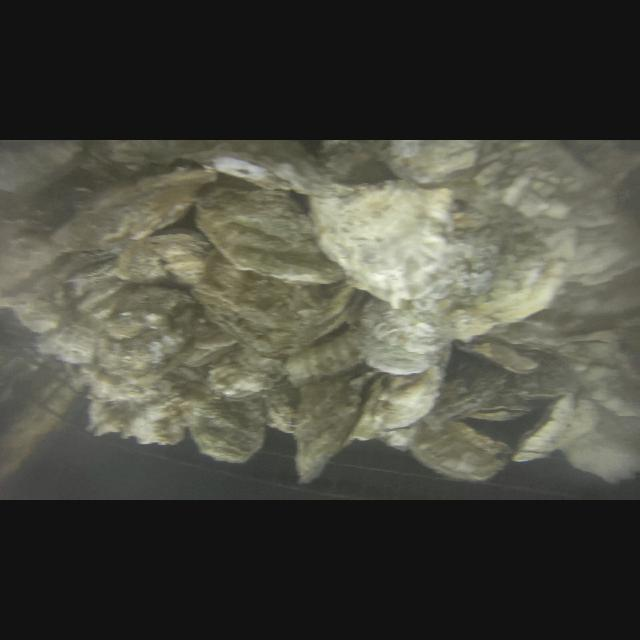Oyster-Closed: (187, 248, 361, 356), (310, 182, 454, 302), (191, 182, 343, 286), (51, 167, 217, 255), (296, 363, 374, 485), (394, 416, 508, 482), (346, 363, 446, 437), (512, 391, 600, 464), (441, 356, 534, 422), (190, 392, 268, 463), (112, 232, 210, 288), (363, 294, 455, 350), (282, 328, 366, 386), (346, 322, 436, 374), (208, 346, 290, 402), (453, 337, 539, 373), (264, 384, 302, 436)
